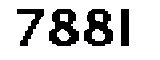7: (12, 7, 46, 49)
8: (47, 7, 82, 48), (82, 6, 114, 48)
I: (118, 2, 138, 50)
